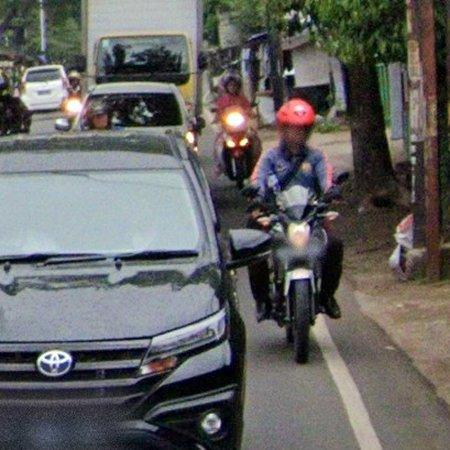motorcycles: (259, 185, 328, 364)
